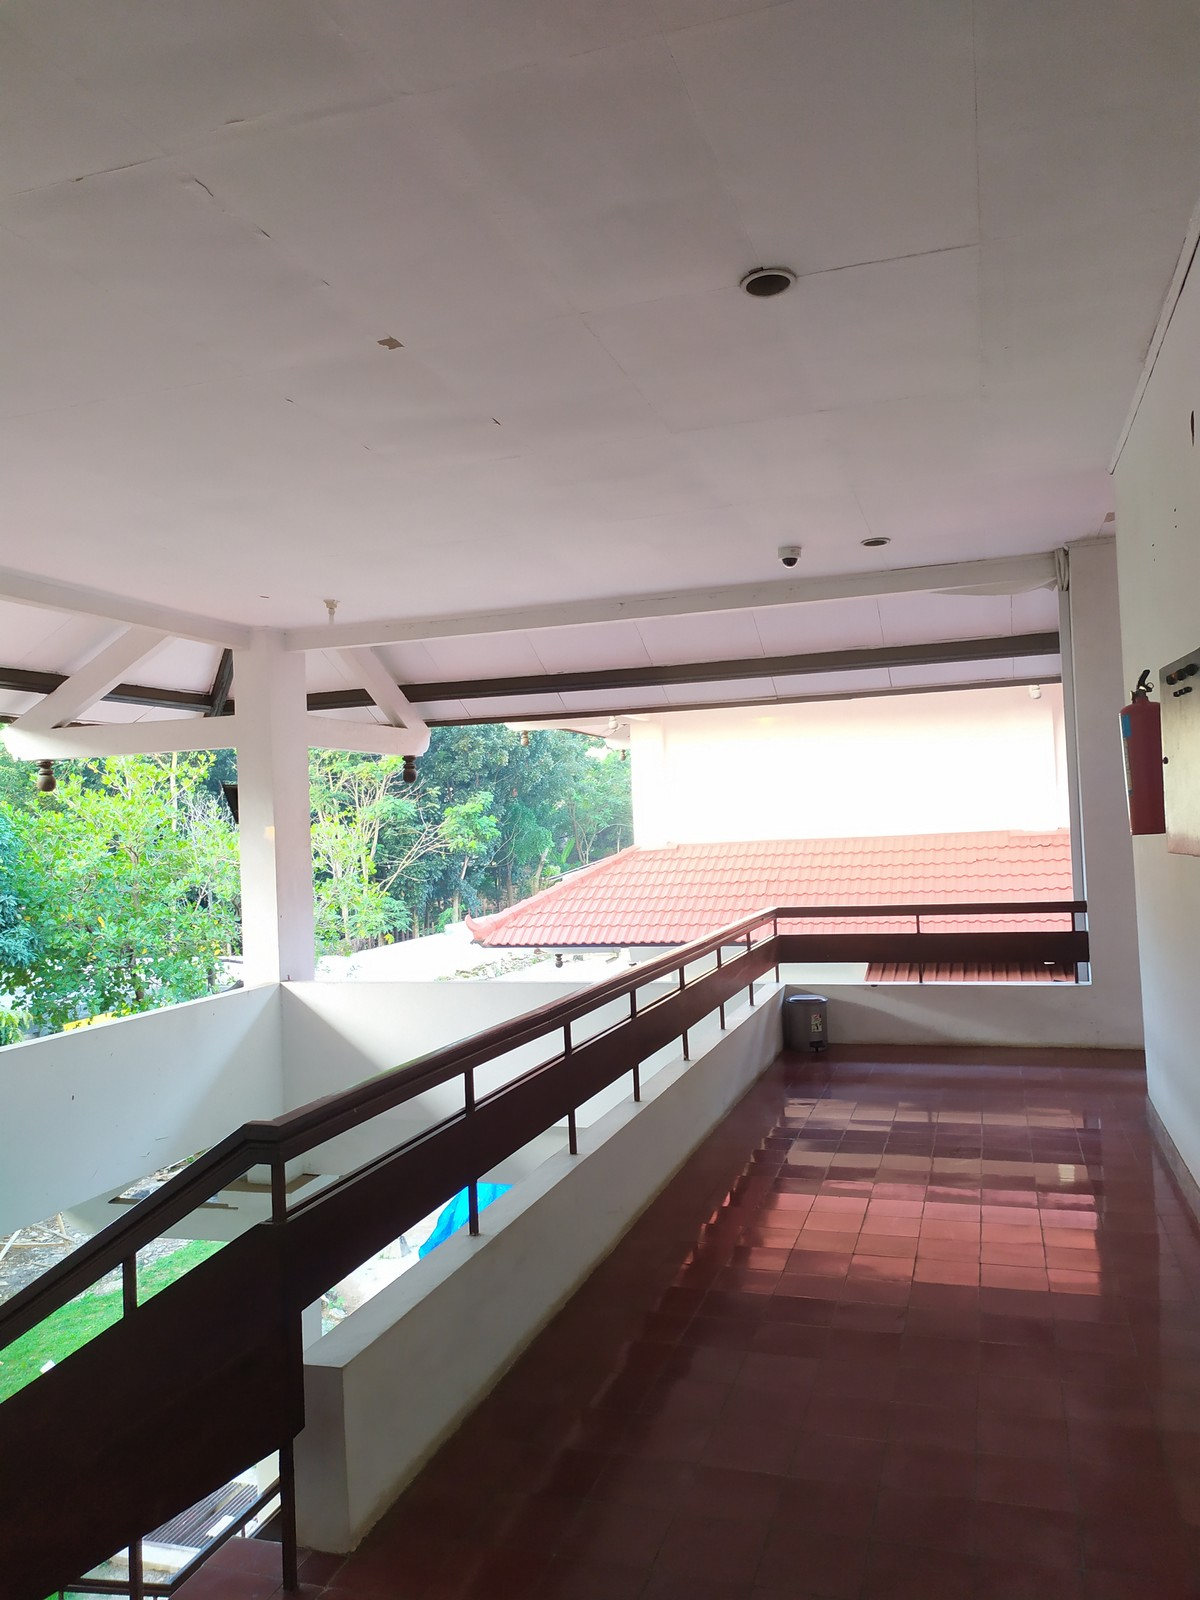concrete column: (229, 622, 325, 1002)
